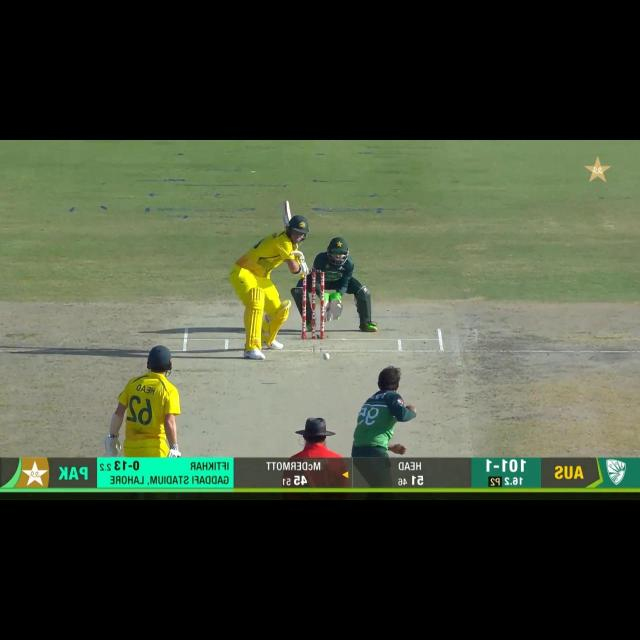bat: (280, 199, 294, 226)
toe: (278, 198, 293, 209)
